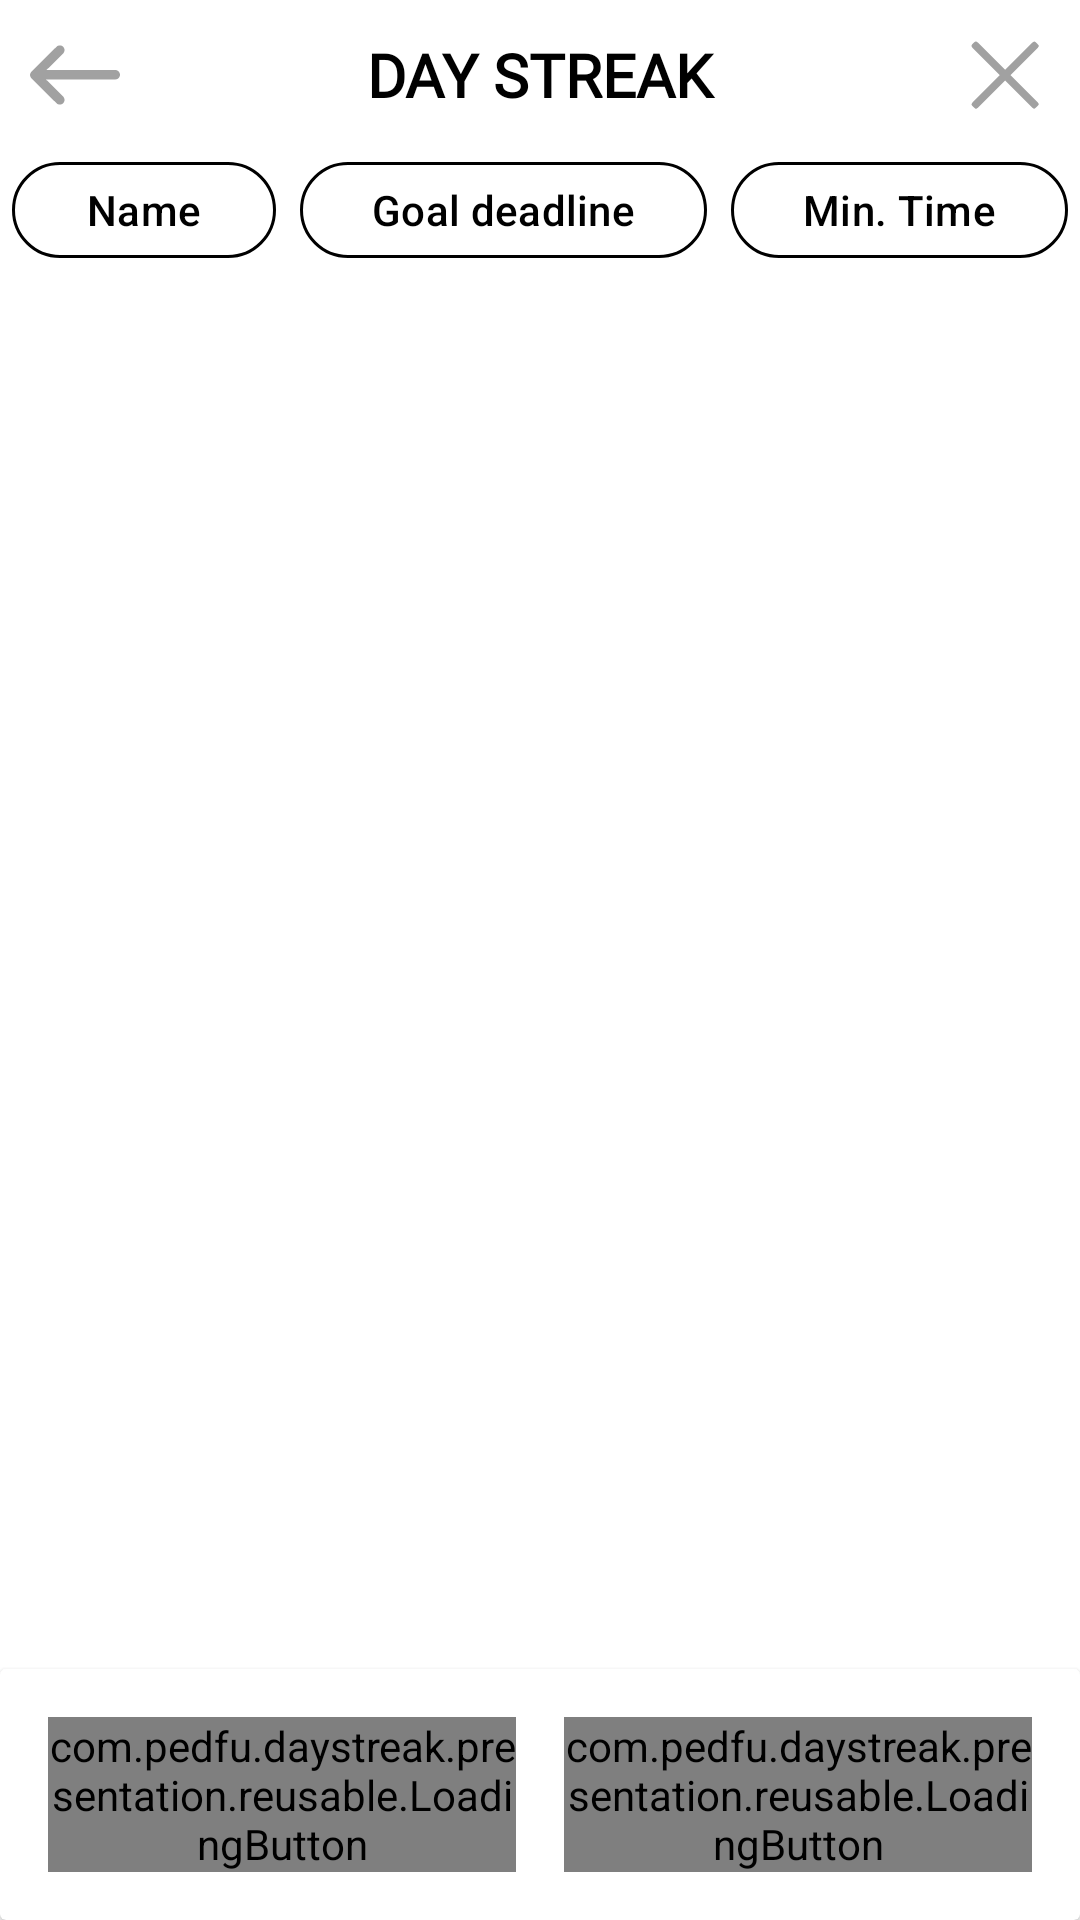

Screen size 1080 × 1920. Icon name, then its box in pixels as (x1, y1, x2, y2):
close: (971, 41, 1039, 109)
leftarrow: (30, 45, 120, 105)
